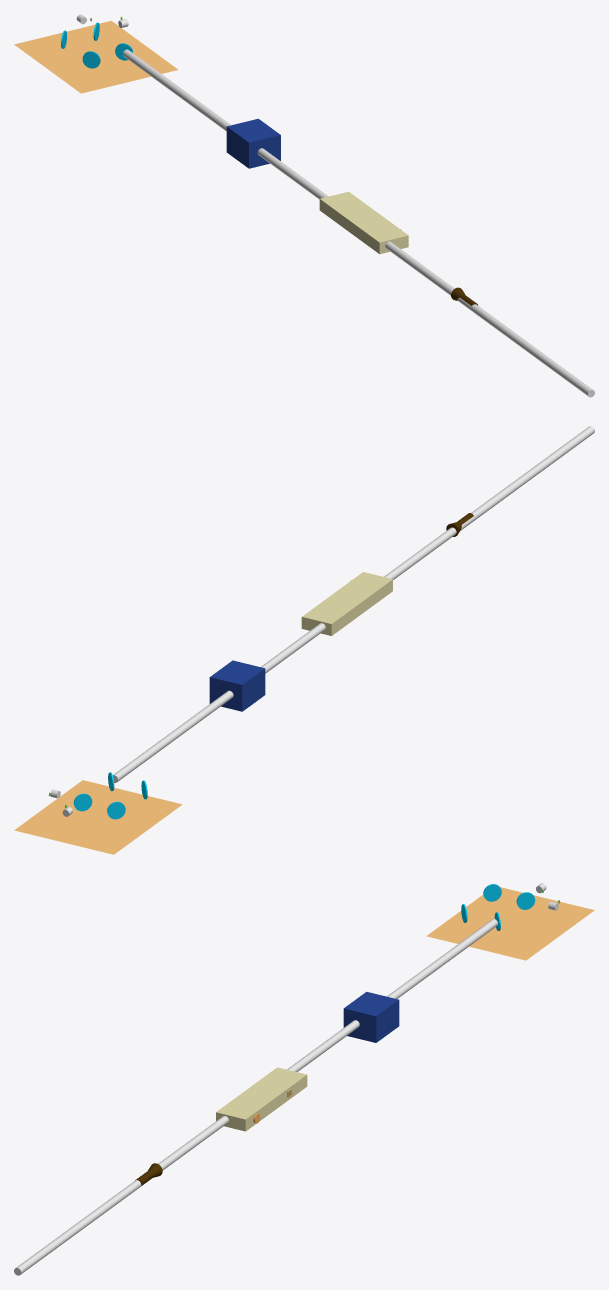
The model's file is lazer2.glb.
The picture shows the model from 3 angles, top to bottom: view 1: azimuth 30°, elevation 25°; view 2: azimuth 150°, elevation 25°; view 3: azimuth 330°, elevation 25°; orthographic projection. The views are drawn at different scales.
Visible parts, largest first — view 1: mziFloor, tunnel, phaseModulator, attenutor; view 2: mziFloor, tunnel, phaseModulator, attenutor; view 3: mziFloor, tunnel, phaseModulator, attenutor.
Boxes of the visible parts, x1,y1,x2,y2 form: mziFloor: [14, 20, 178, 93]; tunnel: [123, 49, 594, 397]; phaseModulator: [319, 191, 408, 254]; attenutor: [226, 118, 280, 168]; mziFloor: [14, 780, 182, 854]; tunnel: [113, 426, 594, 782]; phaseModulator: [301, 572, 392, 635]; attenutor: [209, 660, 265, 711]; mziFloor: [426, 887, 594, 960]; tunnel: [14, 919, 497, 1275]; phaseModulator: [216, 1067, 307, 1131]; attenutor: [343, 991, 399, 1042].
Size of the model in its own units: 4.9 by 1.5 by 45.45.
